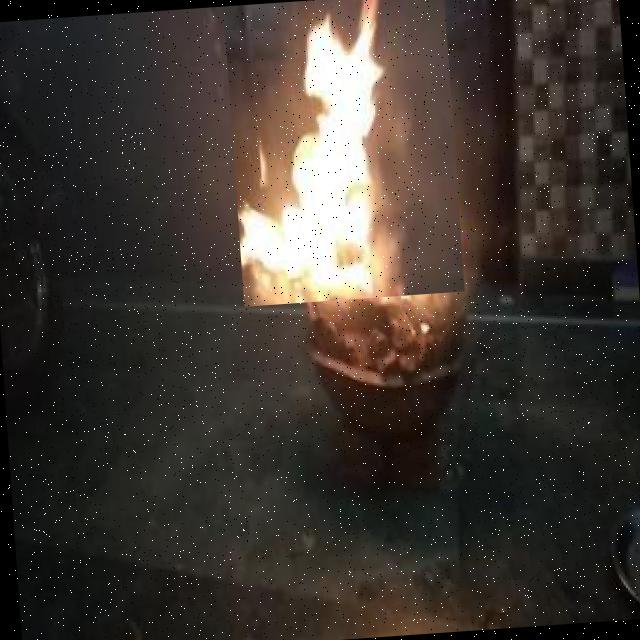fire: (223, 0, 464, 306)
